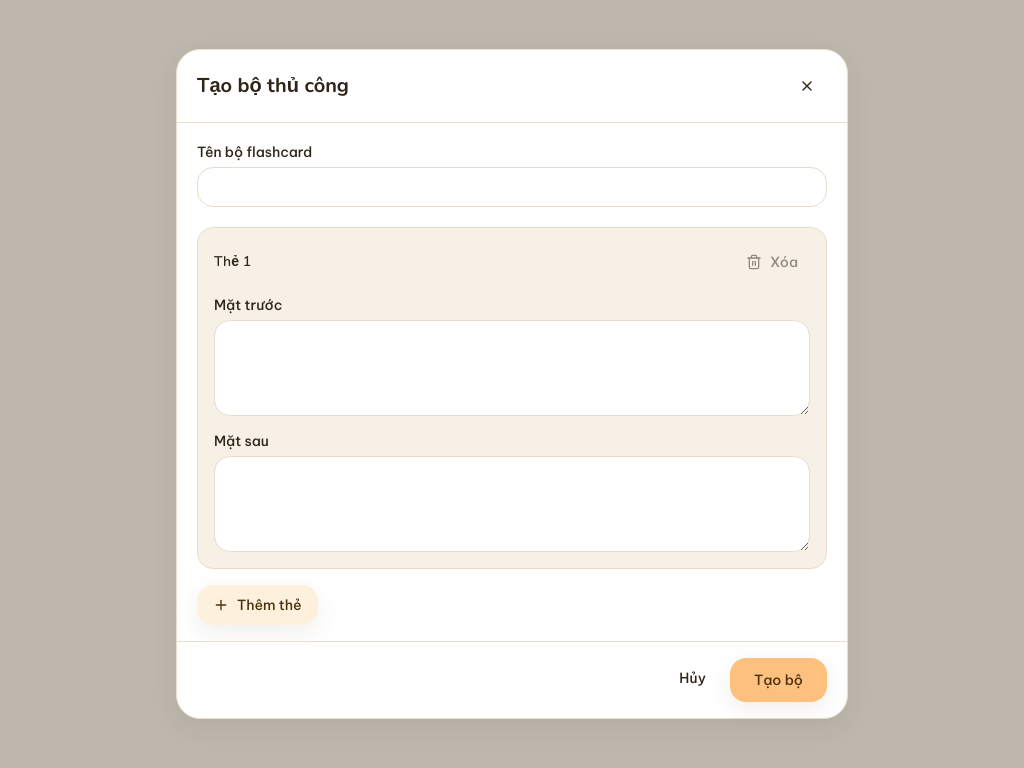
ManualSetForm › focuses the first invalid card field when the name is valid
Type "Bộ hợp lệ" into the field labelled "Tên bộ flashcard".
click(512, 187); type("Bộ hợp lệ")  # box [197,167,827,207]
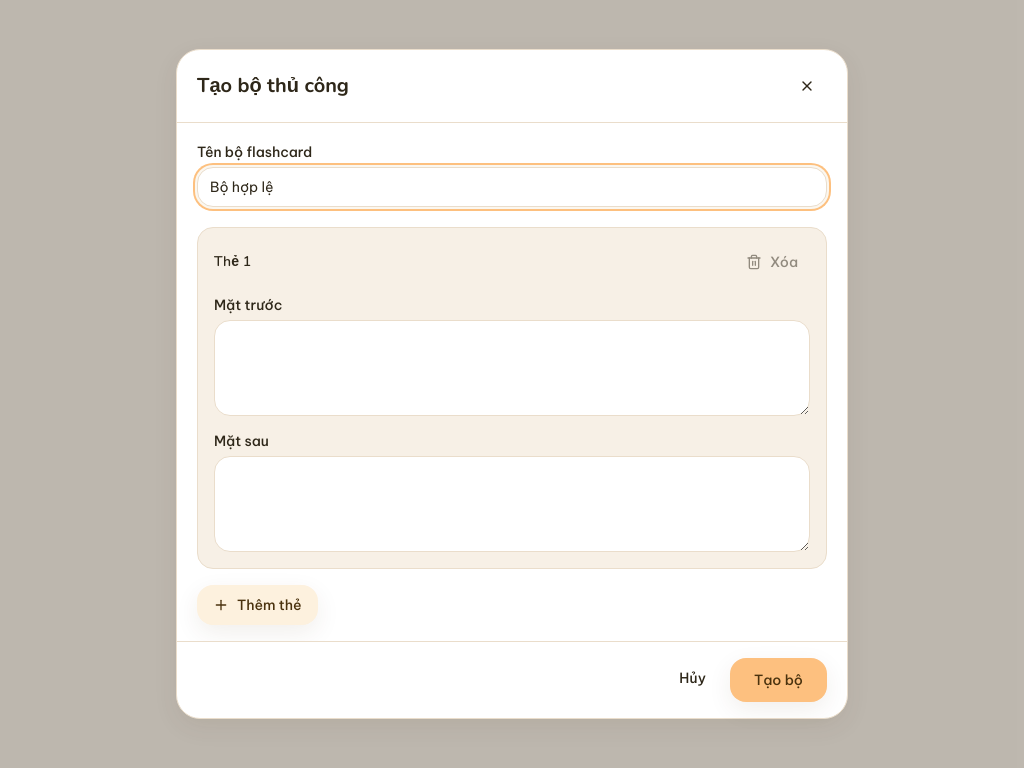
Click the button "Tạo bộ".
click(778, 680)  # box [730,658,827,702]
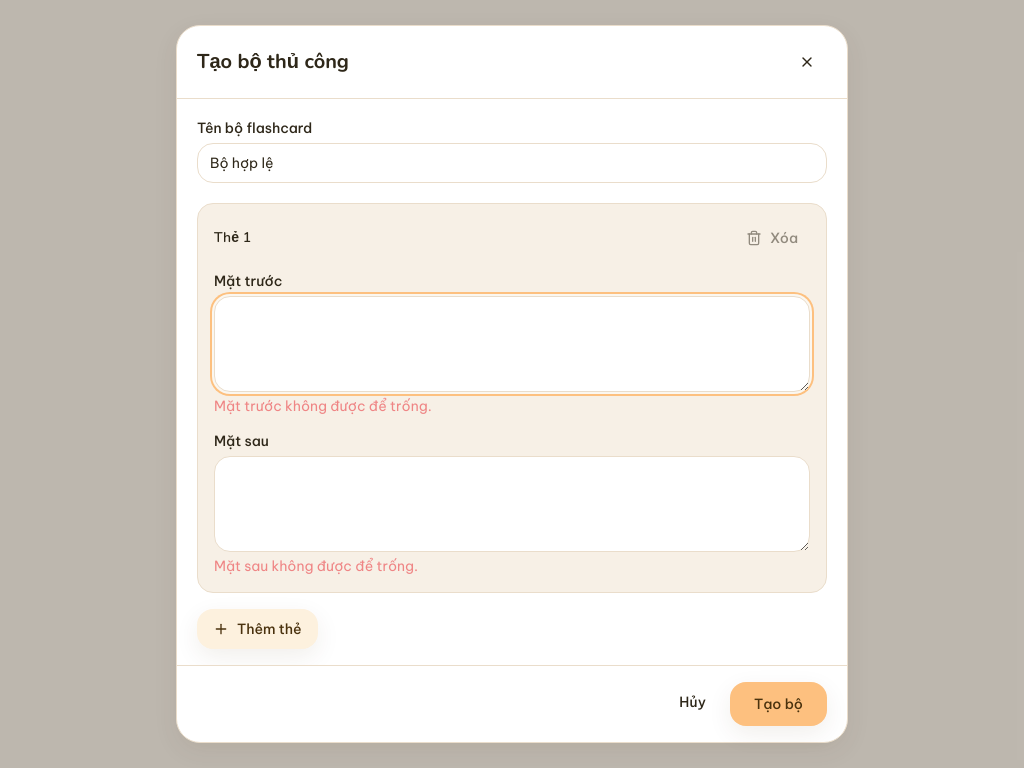
Expected: the text "Mặt trước không được để trống." is shown, [214,397,432,415]
